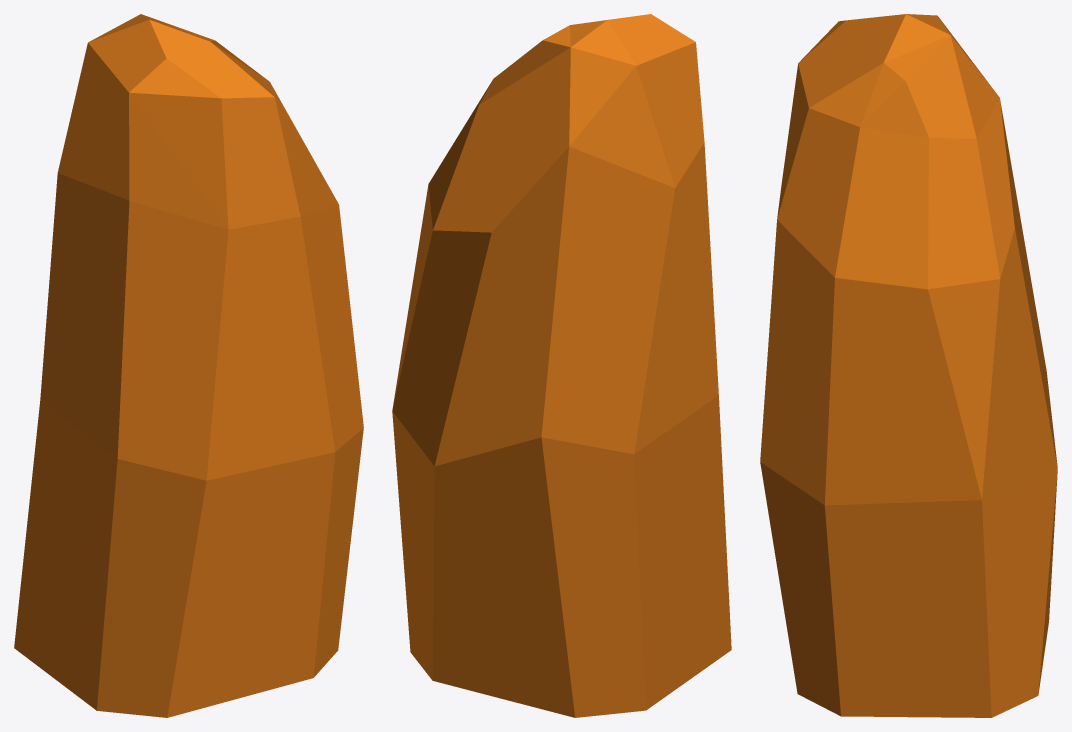
File: DesertRock3.fbx
3 views of the same model, side by side, from view 1: azimuth 30°, elevation 25°; view 2: azimuth 150°, elevation 25°; view 3: azimuth 270°, elevation 25° (orthographic). The views are drawn at different scales.
Parts seen in each view (by area): view 1: Cube.002; view 2: Cube.002; view 3: Cube.002.
Part boxes in pixels (<box>): Cube.002: <box>14,14,363,717</box>; Cube.002: <box>392,14,731,717</box>; Cube.002: <box>760,14,1057,717</box>.
Bounding box in the file's own units: 169 × 389 × 167.
